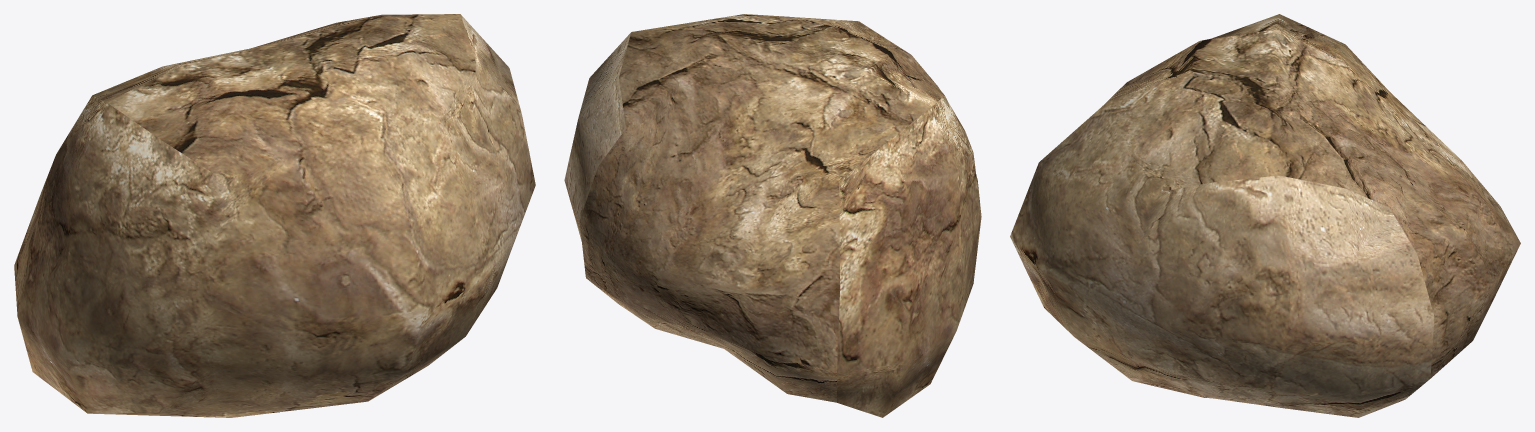
The model's file is smoothRock2.obj.
3 renders of one model, left to right at view 1: azimuth 30°, elevation 25°; view 2: azimuth 150°, elevation 25°; view 3: azimuth 270°, elevation 25°, orthographic. The views are drawn at different scales.
Parts seen in each view (by area): view 1: pCube1; view 2: pCube1; view 3: pCube1.
Part boxes in pixels (bbox=[...]): pCube1: bbox=[14, 14, 535, 417]; pCube1: bbox=[564, 14, 981, 417]; pCube1: bbox=[1010, 14, 1520, 417].
Bounding box in the file's own units: 7.6 × 5.58 × 7.82.
1 material, 1 textured.
